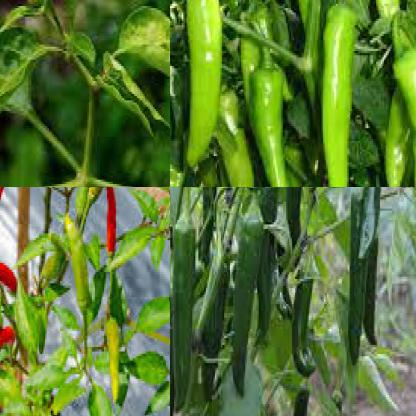Green Chilli: (245, 66, 306, 186), (321, 6, 357, 186), (183, 0, 222, 163), (232, 216, 264, 400), (172, 220, 196, 415), (212, 87, 256, 186), (198, 263, 226, 404), (380, 76, 415, 186), (390, 50, 415, 186), (256, 188, 278, 340), (347, 195, 366, 365), (62, 217, 95, 313), (295, 0, 324, 88), (294, 274, 316, 382), (107, 306, 130, 399), (357, 187, 386, 259), (238, 10, 262, 94), (198, 187, 220, 266), (364, 240, 378, 345), (284, 187, 305, 255), (366, 0, 404, 24)
